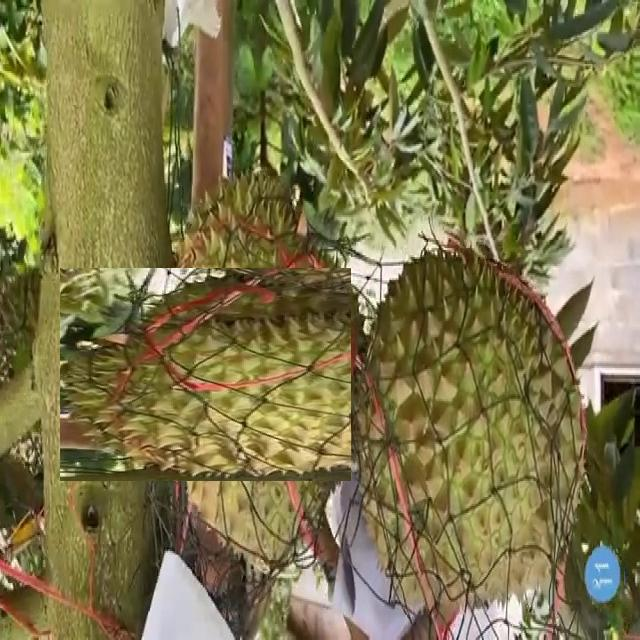durian: (110, 218, 423, 531), (351, 242, 591, 614)
